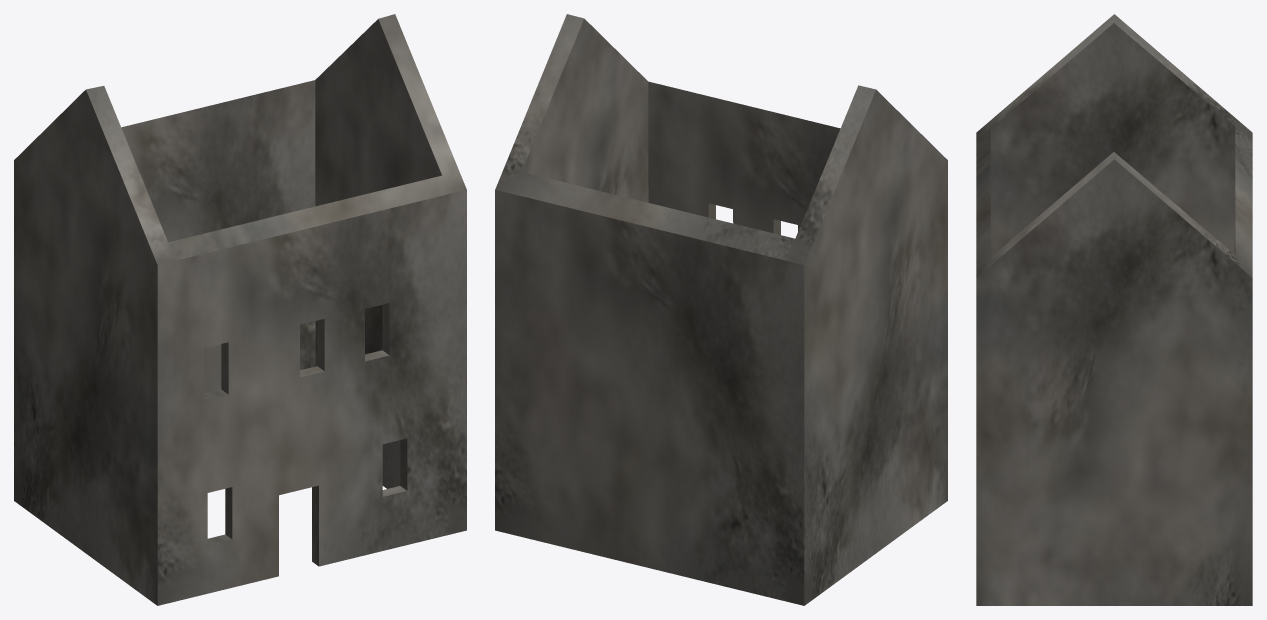
Rendered from house5.gltf.
3 views of the same model, side by side, from view 1: azimuth 30°, elevation 25°; view 2: azimuth 150°, elevation 25°; view 3: azimuth 270°, elevation 25° (orthographic). The views are drawn at different scales.
Visible parts, largest first — view 1: house5_atomic0; view 2: house5_atomic0; view 3: house5_atomic0.
Boxes of the visible parts, bbox=[...] form: house5_atomic0: bbox=[14, 14, 466, 605]; house5_atomic0: bbox=[495, 14, 947, 605]; house5_atomic0: bbox=[976, 14, 1252, 605].
Size of the model in its own units: 58.36 by 83.66 by 46.9.
1 material, 1 textured.
